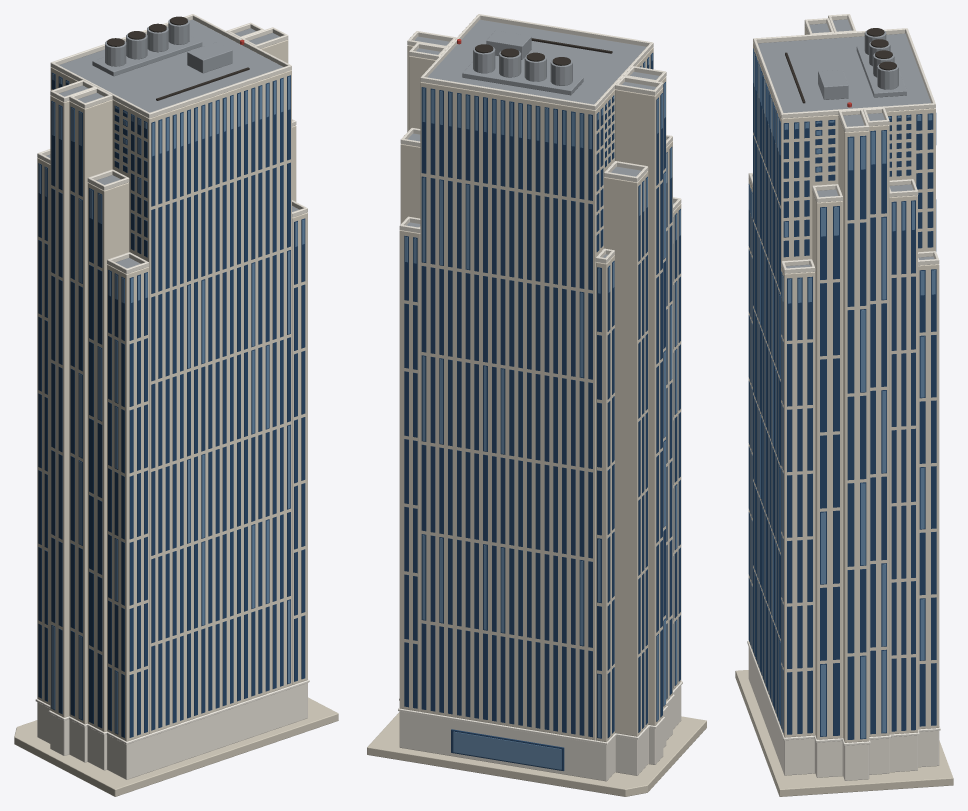
The model's file is 4-embarcadero-center.glb.
The picture shows the model from 3 angles, left to right: view 1: azimuth 30°, elevation 25°; view 2: azimuth 150°, elevation 25°; view 3: azimuth 270°, elevation 25°; orthographic projection. The views are drawn at different scales.
Parts seen in each view (by area): view 1: core, fin_w5, base, fin_w2, fin_w3, fin_w4, plinth, fin_w1, fin_e5, parapet, plant_curb, penthouse (+1 smaller); view 2: core, fin_w1, fin_w2, base, fin_e0, plinth, fin_w0, parapet, fin_w5, lobby_glow, fin_w4, fin_e1 (+6 smaller); view 3: core, fin_e3, fin_e5, fin_e1, fin_e4, fin_e2, base, fin_e0, plinth, parapet, fin_w5, trim_base (+58 smaller).
Part boxes in pixels (bbox=[...]): core: bbox=[50, 19, 291, 733]; fin_w5: bbox=[107, 258, 148, 741]; base: bbox=[37, 683, 307, 779]; fin_w2: bbox=[50, 85, 87, 717]; fin_w3: bbox=[69, 93, 112, 724]; fin_w4: bbox=[87, 175, 129, 731]; plinth: bbox=[14, 697, 338, 796]; fin_w1: bbox=[37, 154, 50, 705]; fin_e5: bbox=[292, 206, 307, 684]; parapet: bbox=[50, 14, 291, 118]; plant_curb: bbox=[92, 35, 202, 76]; penthouse: bbox=[187, 42, 232, 73]; core: bbox=[420, 19, 653, 740]; fin_w1: bbox=[604, 166, 648, 736]; fin_w2: bbox=[615, 82, 663, 725]; base: bbox=[399, 685, 681, 781]; fin_e0: bbox=[399, 222, 420, 711]; plinth: bbox=[367, 712, 706, 796]; fin_w0: bbox=[596, 254, 614, 741]; parapet: bbox=[420, 14, 653, 110]; fin_w5: bbox=[673, 202, 681, 689]; lobby_glow: bbox=[453, 731, 561, 769]; fin_w4: bbox=[666, 141, 672, 701]; fin_e1: bbox=[400, 133, 420, 223]; core: bbox=[753, 33, 935, 728]; fin_e3: bbox=[838, 114, 869, 742]; fin_e5: bbox=[781, 264, 815, 737]; fin_e1: bbox=[889, 184, 917, 734]; fin_e4: bbox=[812, 189, 842, 739]; fin_e2: bbox=[867, 113, 889, 736]; base: bbox=[748, 647, 939, 780]; fin_e0: bbox=[918, 256, 939, 729]; plinth: bbox=[735, 670, 953, 796]; parapet: bbox=[753, 28, 935, 118]; fin_w5: bbox=[748, 178, 752, 651]; trim_base: bbox=[747, 641, 940, 745].
Size of the model in its own units: 73.02 by 179 by 51.98.
